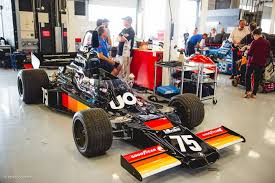FormulaOneCar: (16, 49, 250, 180)
